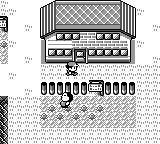leer: (88, 79, 104, 95), (0, 16, 8, 32)
main: (66, 61, 79, 75)
mo: (0, 97, 8, 143)
no-caminable: (40, 1, 135, 63), (41, 81, 87, 95), (106, 82, 134, 95)
npc: (60, 92, 73, 108)
puerta: (75, 49, 85, 63)
